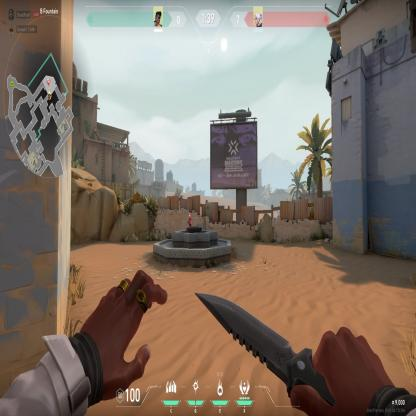enemy: (187, 214, 192, 227)
